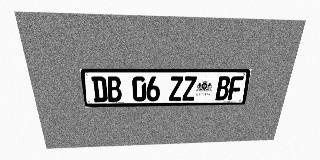0: (132, 76, 146, 102)
6: (146, 76, 160, 101)
B: (106, 76, 122, 102), (215, 76, 231, 100)
D: (91, 76, 108, 102)
F: (228, 76, 244, 100)
Z: (182, 76, 197, 101), (169, 76, 183, 101)
